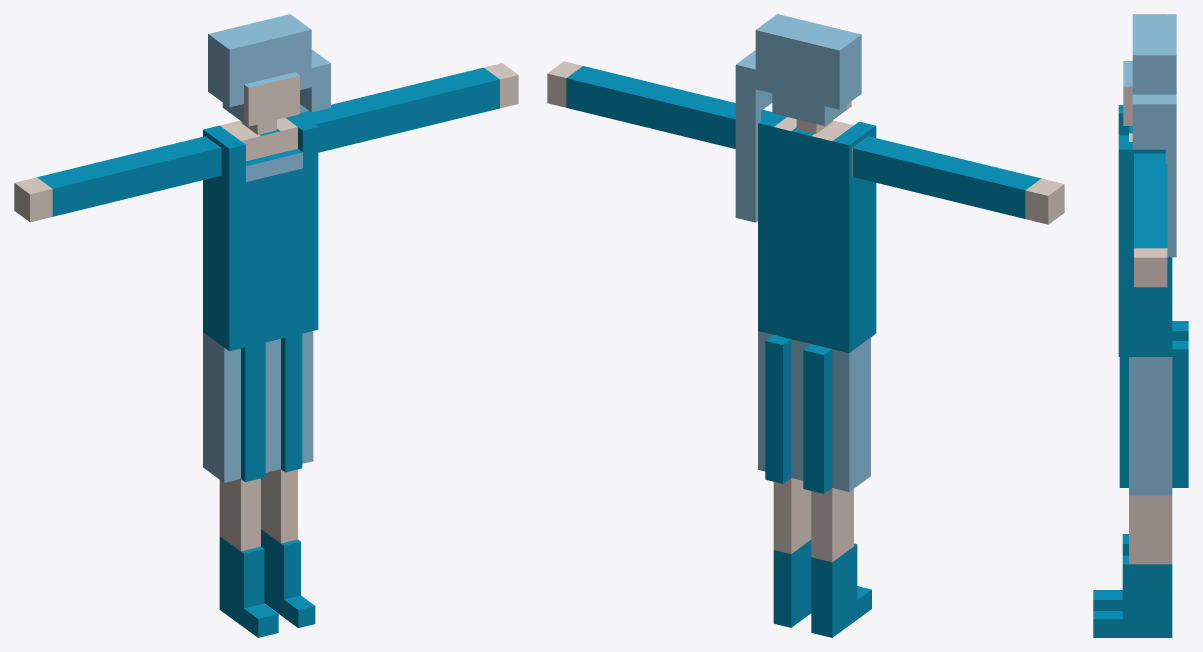
File: girl3.fbx
3 renders of one model, left to right at view 1: azimuth 30°, elevation 25°; view 2: azimuth 150°, elevation 25°; view 3: azimuth 270°, elevation 25°, orthographic. The views are drawn at different scales.
Parts seen in each view (by area): view 1: pasted__polySurface12, pasted__pasted__pCube11, pasted__polySurface15, pasted__polySurface14, pasted__polySurface13, pasted__polySurface16; view 2: pasted__polySurface12, pasted__pasted__pCube11, pasted__polySurface14, pasted__polySurface15, pasted__polySurface13, pasted__polySurface16; view 3: pasted__polySurface12, pasted__pasted__pCube11, pasted__polySurface16, pasted__polySurface15, pasted__polySurface13.
Boxes of the visible parts, x1,y1,x2,y2 form: pasted__polySurface12: (203,114,318,482); pasted__pasted__pCube11: (208,14,330,134); pasted__polySurface15: (300,63,518,152); pasted__polySurface14: (14,136,220,222); pasted__polySurface13: (219,478,278,637); pasted__polySurface16: (261,469,315,627); pasted__polySurface12: (758,113,876,493); pasted__pasted__pCube11: (735,14,861,222); pasted__polySurface14: (852,136,1064,224); pasted__polySurface15: (547,61,772,148); pasted__polySurface13: (811,488,871,637); pasted__polySurface16: (773,478,811,627); pasted__polySurface12: (1118,105,1188,495); pasted__pasted__pCube11: (1123,14,1176,257); pasted__polySurface16: (1093,495,1172,637); pasted__polySurface15: (1134,153,1167,287); pasted__polySurface13: (1093,534,1128,610).
Size of the model in its own units: 3.09 by 3.49 by 0.5109.
